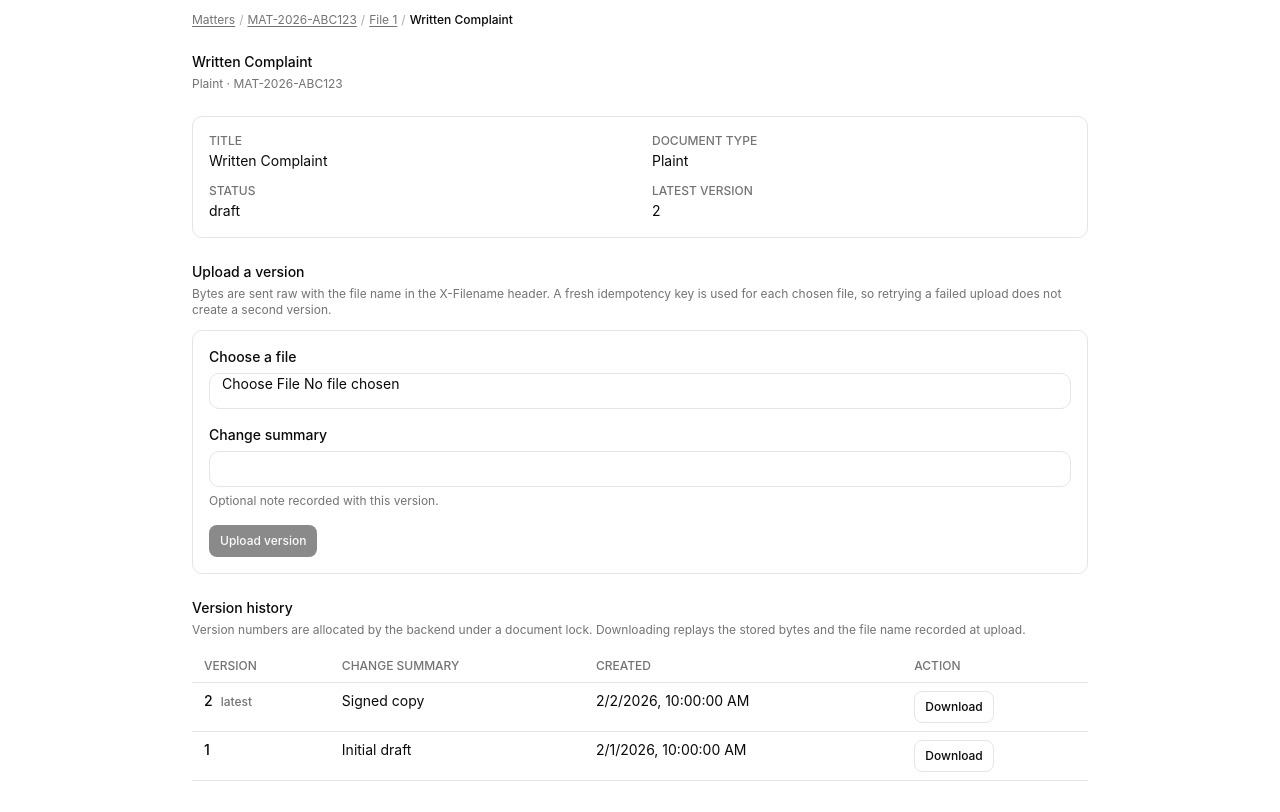
Test case: DocumentDetailPage › surfaces a download failure
Click the button "Download" in the row of "Signed copy": (954, 707) [914,691,994,723]
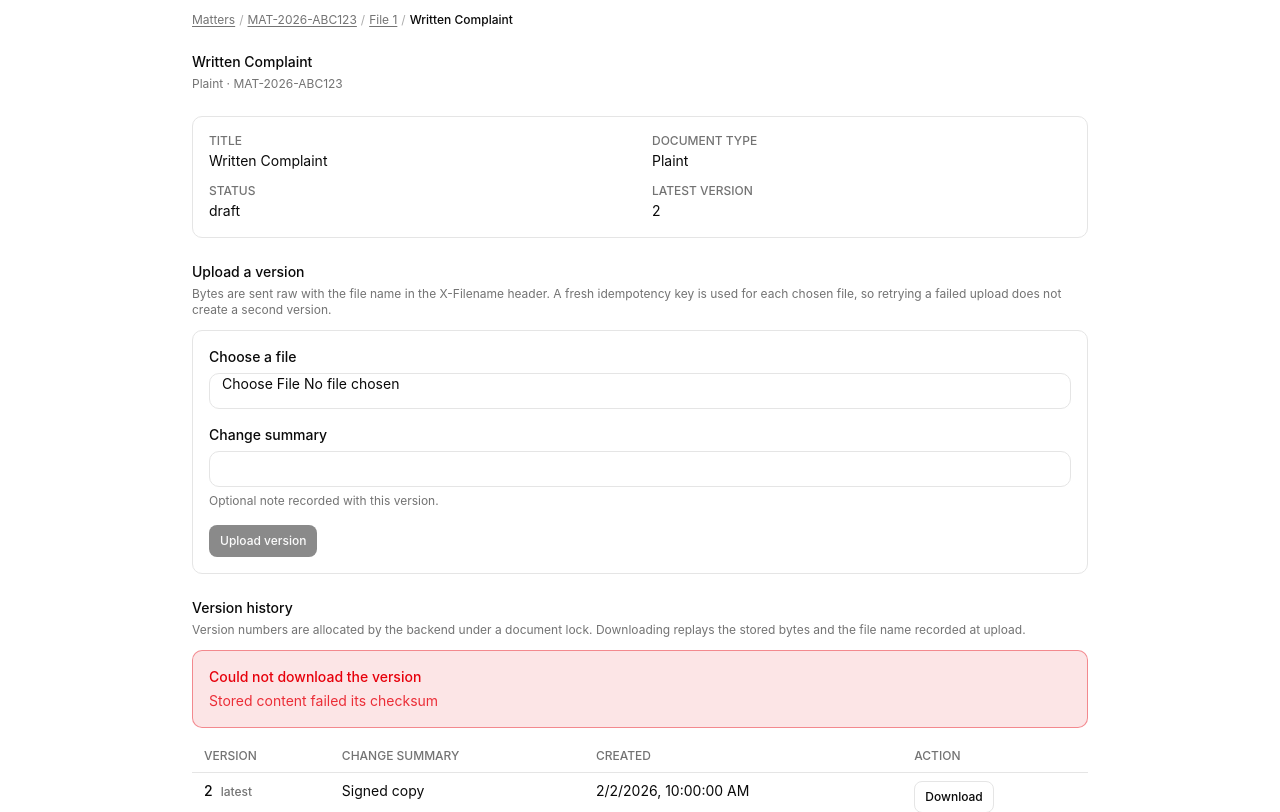
Now the message shows "Stored content failed its checksum", box [209,692,438,709]
